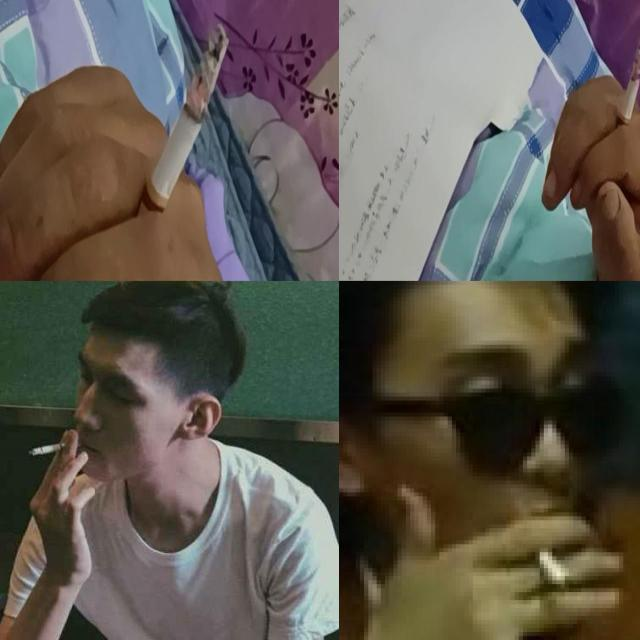smoking: (128, 20, 230, 248), (614, 32, 640, 140), (523, 544, 569, 588), (28, 440, 84, 457)
